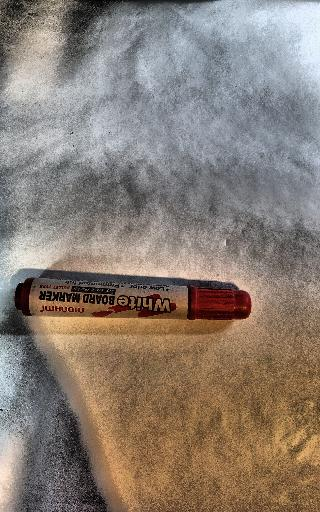marcador rojo: (14, 277, 251, 321)
